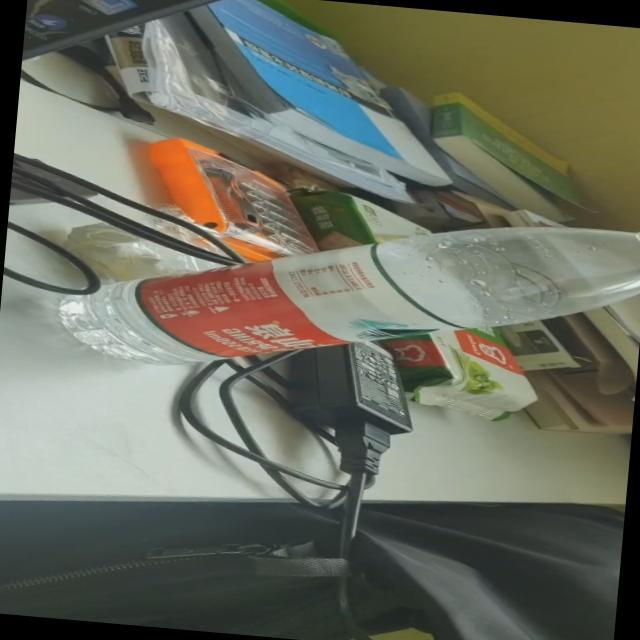good: (48, 174, 640, 405)
